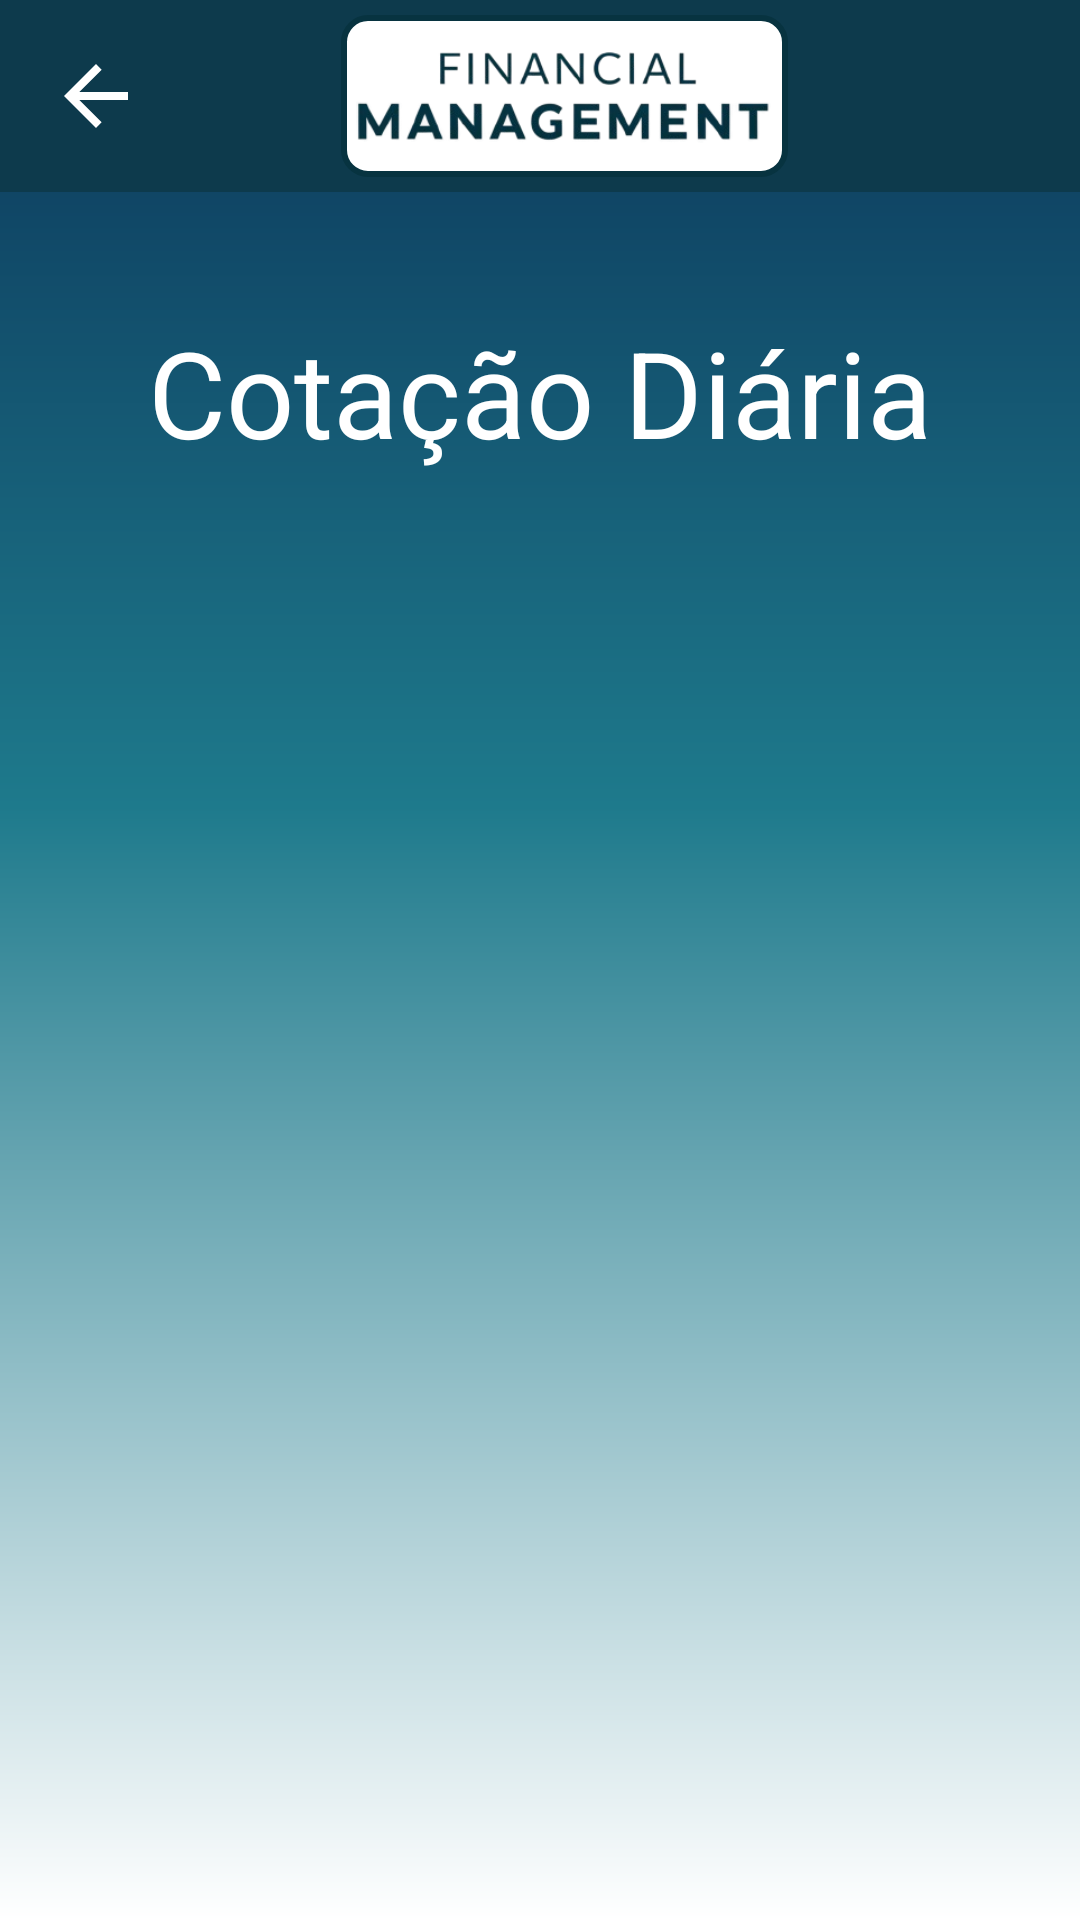

Point at icon controls on the screen. Image size 1080w x 1920h, points as point (x, y).
arrow back: point (96, 96)
